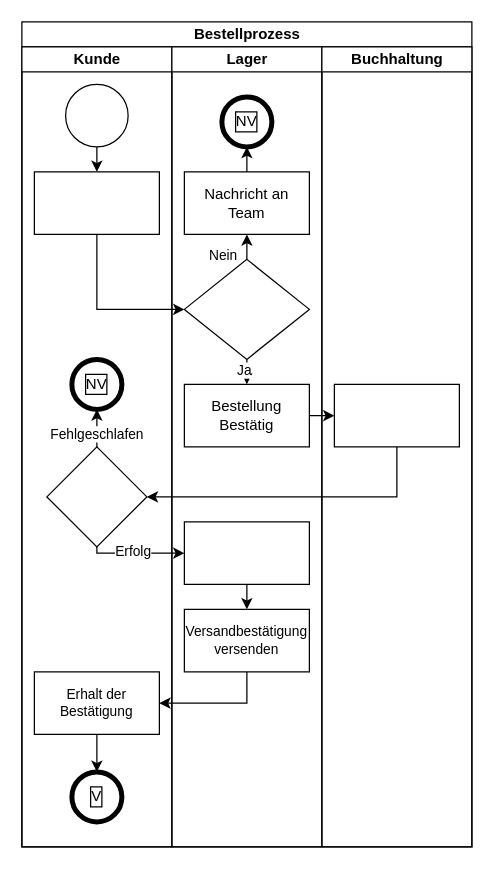
This 494x869 diagram has some shape labels left out. Each missing label, with the centre of its shape:
Bestellung über Website: pixel 96 202
Bezahlung: pixel 96 496
Rechnung generieren: pixel 396 415
Versendung der Ware: pixel 246 552
Überprüfung auf Lager: pixel 246 308
